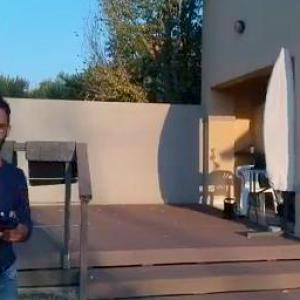follow: (0, 92, 38, 298)
